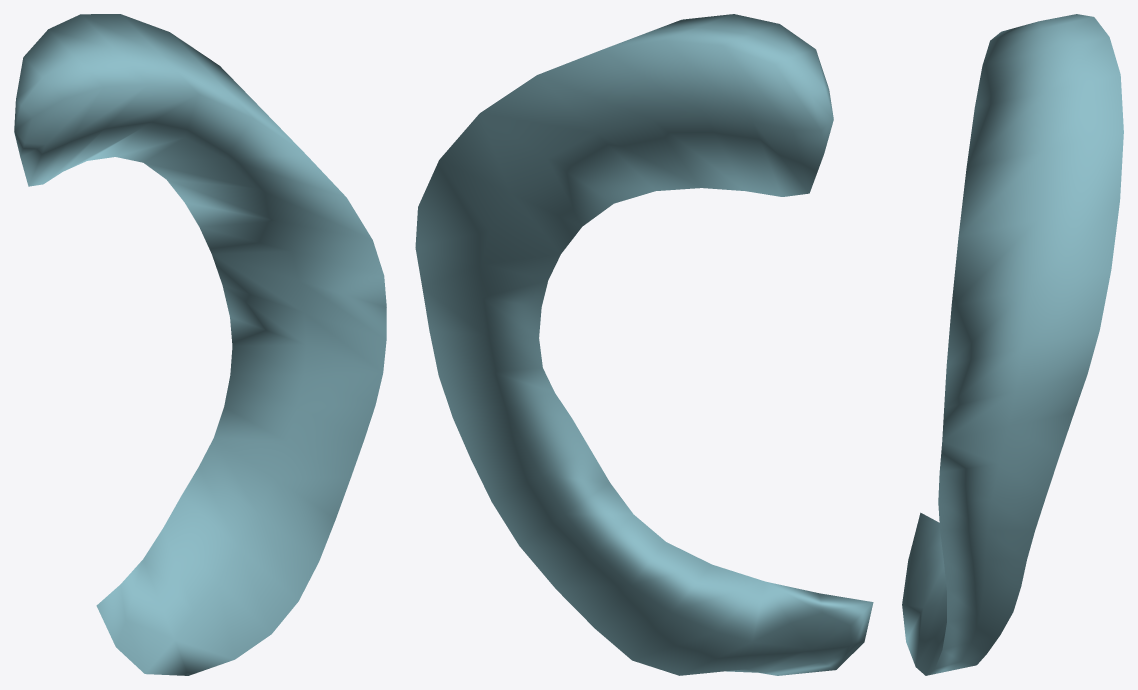
The picture shows the model from 3 angles, left to right: view 1: azimuth 30°, elevation 25°; view 2: azimuth 150°, elevation 25°; view 3: azimuth 270°, elevation 25°; orthographic projection. The views are drawn at different scales.
Parts seen in each view (by area): view 1: 右侧内侧半月板; view 2: 右侧内侧半月板; view 3: 右侧内侧半月板.
Boxes of the visible parts, x1=… form: 右侧内侧半月板: x1=14, y1=14, x2=386, y2=675; 右侧内侧半月板: x1=415, y1=14, x2=873, y2=675; 右侧内侧半月板: x1=902, y1=14, x2=1123, y2=675.
Size of the model in its own units: 0.038 by 0.0659 by 0.022.
